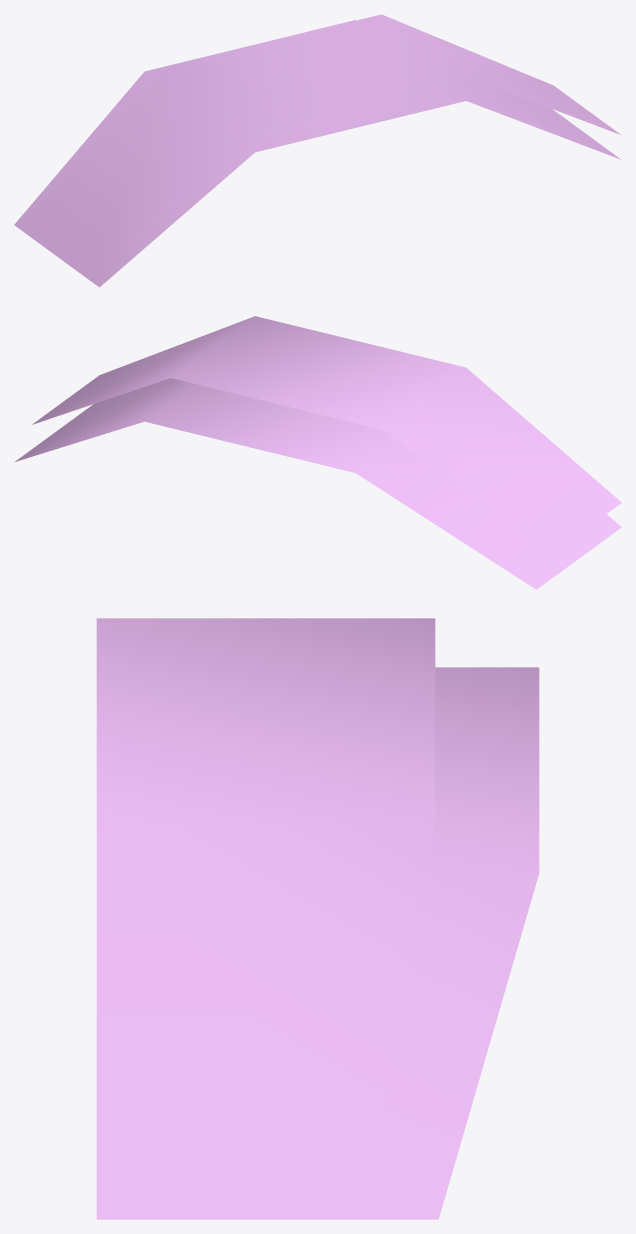
3 renders of one model, top to bottom at view 1: azimuth 30°, elevation 25°; view 2: azimuth 150°, elevation 25°; view 3: azimuth 270°, elevation 25°, orthographic. The views are drawn at different scales.
Visible parts, largest first — view 1: Object52; view 2: Object52; view 3: Object52.
Boxes of the visible parts, x1,y1,x2,y2 form: Object52: (14,14,621,287); Object52: (15,316,621,589); Object52: (96,618,539,1219).
Bounding box in the file's own units: 158894 × 35375 × 58276.
